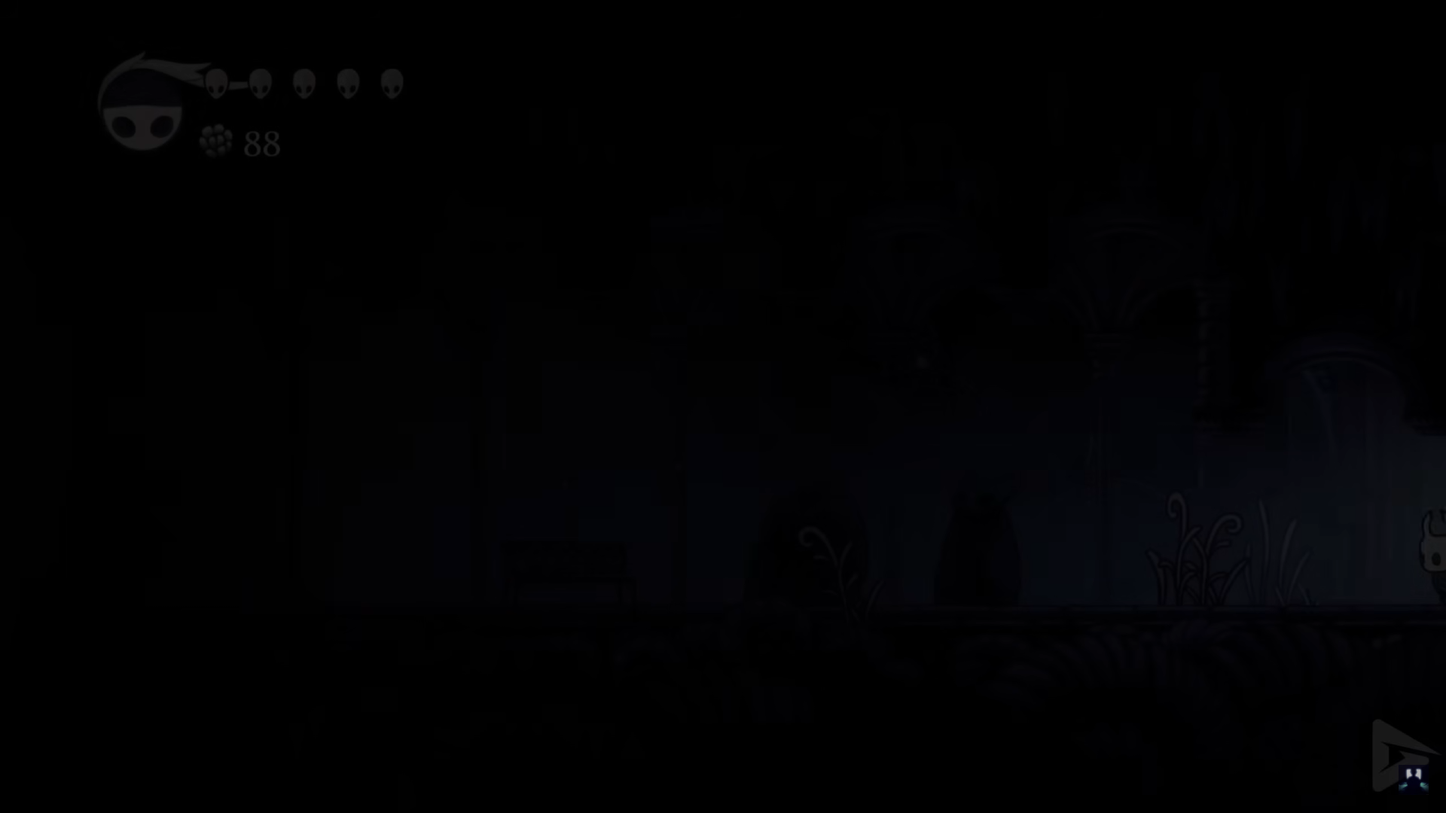HK: (1413, 503, 1446, 611)
